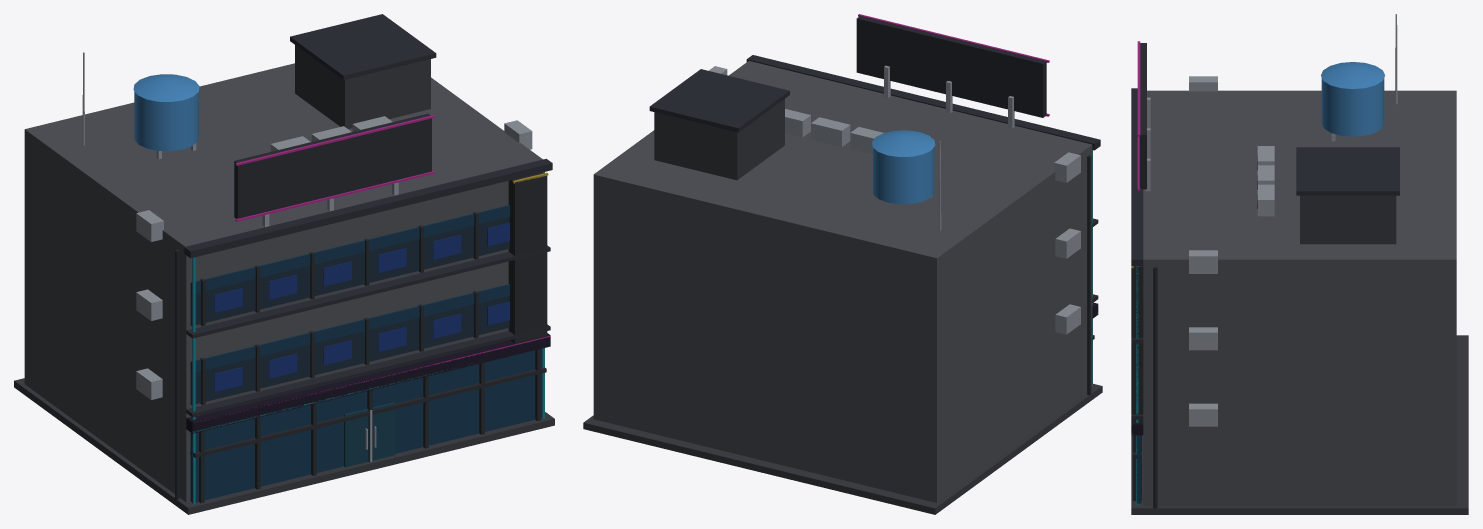
File: town-cyberia.glb
The picture shows the model from 3 angles, left to right: view 1: azimuth 30°, elevation 25°; view 2: azimuth 150°, elevation 25°; view 3: azimuth 270°, elevation 25°; orthographic projection. The views are drawn at different scales.
Visible parts, largest first — view 1: concrete1, glowInside2, steel27, glass12, glass17, concreteDark33, steel24, concreteDark0, awning9, tile34, tile22, glowInside13 (+14 smaller); view 2: concrete1, steel27, concreteDark0, concreteDark33, tile34, tank35, tile22, tank36, steel42_mx, steelLight38_2, steelLight41_mx_3, steelLight41_mx_2 (+3 smaller); view 3: concrete1, concreteDark0, tile34, concreteDark33, tank35, steel24, tile22, tank36, steel42, steel27, steelLight41_1, steelLight41_2 (+5 smaller).
Part boxes in pixels (box(x1,y1,x2,y2)): concrete1: box(24, 63, 542, 502); glowInside2: box(190, 348, 542, 502); steel27: box(234, 113, 431, 218); glass12: box(190, 296, 509, 404); glass17: box(190, 217, 509, 325); concreteDark33: box(295, 45, 430, 128); steel24: box(508, 172, 547, 343); concreteDark0: box(14, 378, 554, 514); awning9: box(186, 333, 550, 433); tile34: box(290, 14, 436, 80); tile22: box(184, 158, 552, 258); glowInside13: box(191, 284, 509, 372); concrete1: box(593, 61, 1092, 502); steel27: box(856, 16, 1046, 117); concreteDark0: box(583, 383, 1102, 514); concreteDark33: box(654, 99, 784, 180); tile34: box(649, 69, 789, 132); tank35: box(873, 147, 934, 204); tile22: box(746, 55, 1100, 150); tank36: box(872, 130, 935, 156); steel42_mx: box(1087, 155, 1091, 395); steelLight38_2: box(811, 117, 850, 146); steelLight41_mx_3: box(1054, 152, 1080, 182); steelLight41_mx_2: box(1055, 228, 1080, 258); concrete1: box(1143, 90, 1456, 506); concreteDark0: box(1131, 335, 1468, 514); tile34: box(1296, 147, 1399, 195); concreteDark33: box(1300, 195, 1396, 244); tank35: box(1321, 78, 1384, 136); steel24: box(1131, 266, 1143, 422); tile22: box(1131, 88, 1143, 265); tank36: box(1321, 62, 1384, 88); steel42: box(1153, 266, 1157, 508); steel27: box(1139, 43, 1146, 189); steelLight41_1: box(1189, 403, 1217, 426); steelLight41_2: box(1189, 327, 1217, 350).
Bounding box in the file's own units: 17.68 × 15.7 × 14.
